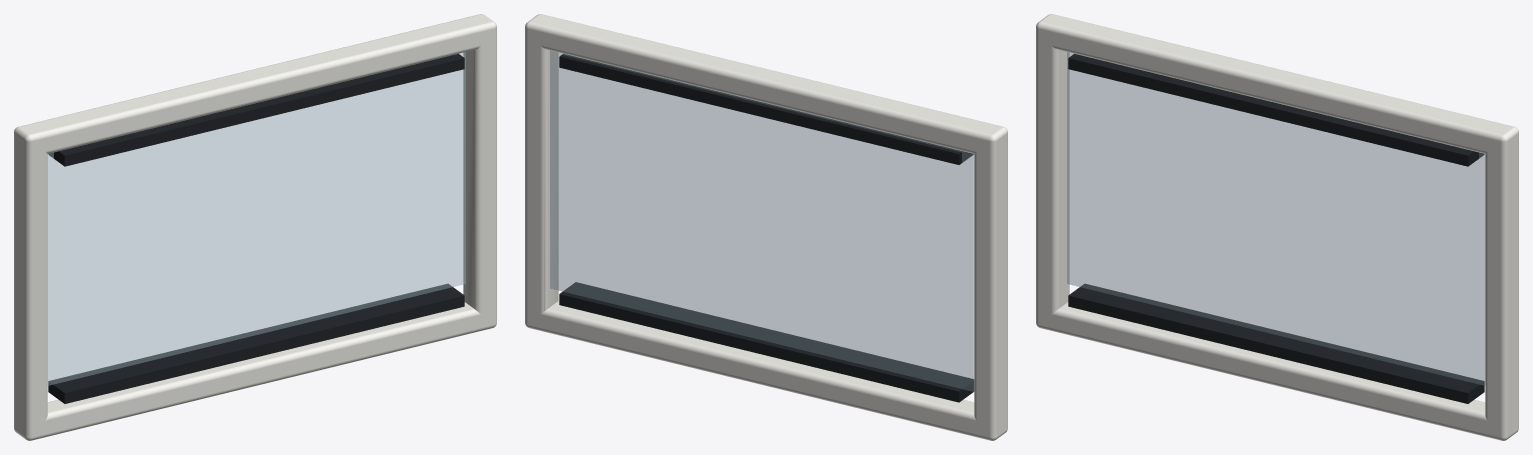
Rendered from modern-wide-picture-window.optimized.glb.
3 views of the same model, side by side, from view 1: azimuth 30°, elevation 25°; view 2: azimuth 150°, elevation 25°; view 3: azimuth 330°, elevation 25° (orthographic).
Visible parts, largest first — view 1: single fixed glass pane, frame top rail, thin black inner reveal; view 2: single fixed glass pane, frame top rail, thin black inner reveal; view 3: single fixed glass pane, frame top rail, thin black inner reveal.
Boxes of the visible parts, box(x1,y1,x2,y2) form: single fixed glass pane: box(47, 52, 465, 385); frame top rail: box(14, 14, 496, 440); thin black inner reveal: box(48, 53, 464, 403); single fixed glass pane: box(550, 50, 974, 391); frame top rail: box(525, 14, 1007, 440); thin black inner reveal: box(559, 54, 974, 402); single fixed glass pane: box(1067, 52, 1485, 385); frame top rail: box(1036, 14, 1518, 440); thin black inner reveal: box(1068, 53, 1484, 403).
Size of the model in its own units: 1.58 by 0.9799 by 0.099.
